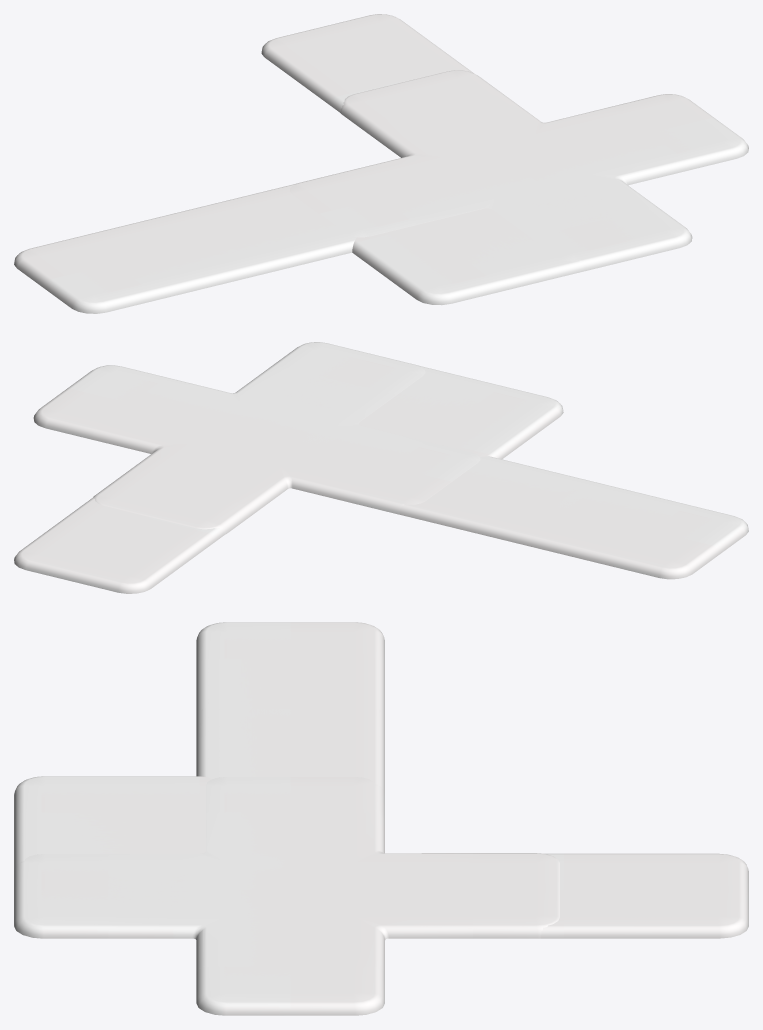
Rendered from highlight.fbx.
3 renders of one model, top to bottom at view 1: azimuth 30°, elevation 25°; view 2: azimuth 150°, elevation 25°; view 3: azimuth 270°, elevation 25°, orthographic. The views are drawn at different scales.
Visible parts, largest first — view 1: Dual_62, Dual_42, Dual_18, Dual_24, Dual_20, Dual_21; view 2: Dual_62, Dual_42, Dual_18, Dual_20, Dual_24, Dual_21; view 3: Dual_62, Dual_42, Dual_18, Dual_20, Dual_24, Dual_21.
Boxes of the visible parts, bbox=[...] form: Dual_62: bbox=[290, 70, 739, 236]; Dual_42: bbox=[291, 71, 748, 271]; Dual_18: bbox=[14, 184, 353, 313]; Dual_24: bbox=[352, 208, 584, 305]; Dual_20: bbox=[261, 14, 473, 112]; Dual_21: bbox=[165, 184, 356, 271]; Dual_62: bbox=[33, 366, 479, 534]; Dual_42: bbox=[41, 342, 480, 533]; Dual_18: bbox=[399, 456, 748, 579]; Dual_20: bbox=[14, 497, 224, 593]; Dual_24: bbox=[358, 366, 563, 459]; Dual_21: bbox=[399, 456, 601, 539]; Dual_62: bbox=[196, 777, 559, 1015]; Dual_42: bbox=[14, 777, 556, 1015]; Dual_18: bbox=[196, 622, 384, 788]; Dual_20: bbox=[540, 853, 748, 938]; Dual_24: bbox=[14, 776, 211, 870]; Dual_21: bbox=[196, 708, 384, 792].
Bounding box in the file's own units: 5.04 × 0.057 × 4.03.
1 material, 1 textured.
